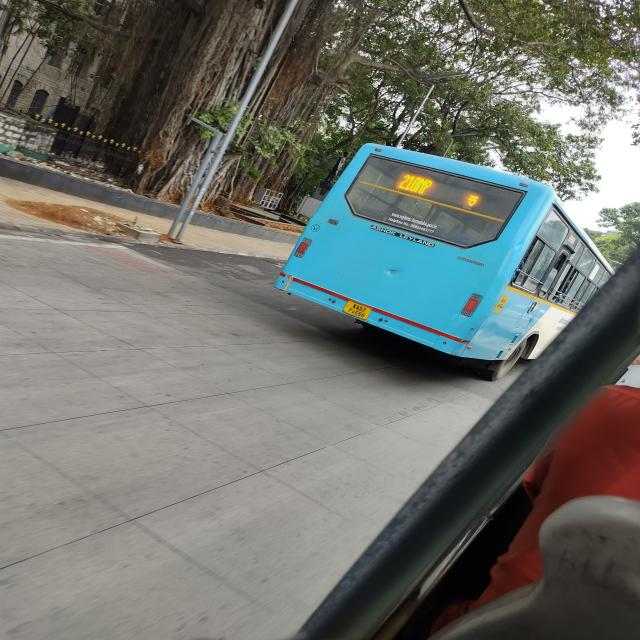bus: (270, 115, 630, 378)
display: (393, 164, 488, 206)
dnumber: (397, 170, 436, 196)
